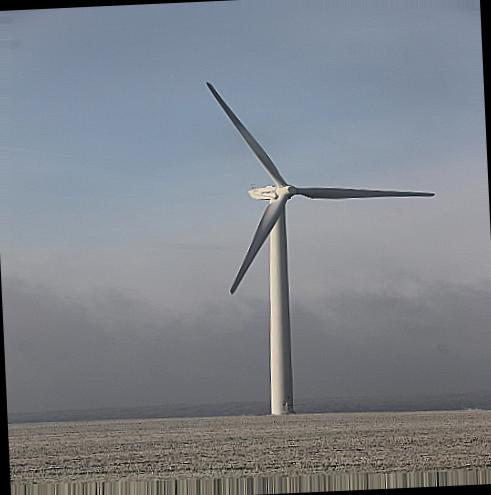wind turbine: (205, 82, 435, 416)
